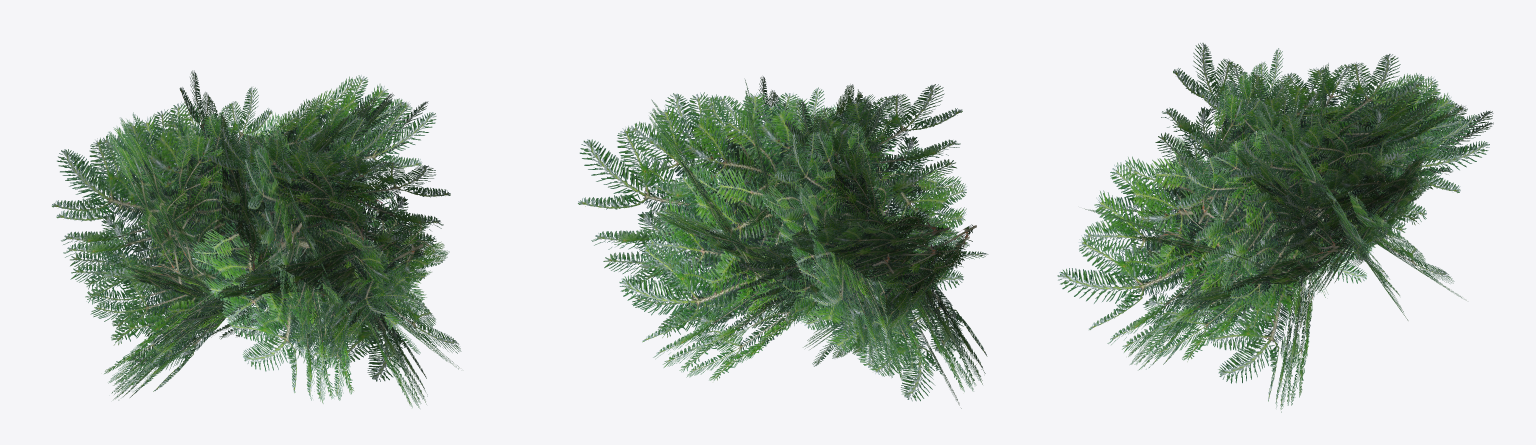
The model's file is Grass_52.fbx.
The picture shows the model from 3 angles, left to right: view 1: azimuth 30°, elevation 25°; view 2: azimuth 150°, elevation 25°; view 3: azimuth 270°, elevation 25°; orthographic projection. The views are drawn at different scales.
Parts seen in each view (by area): view 1: Grass_52; view 2: Grass_52; view 3: Grass_52.
Part boxes in pixels (x1,y1,x2,y2): Grass_52: (52, 70, 461, 408); Grass_52: (578, 76, 988, 408); Grass_52: (1057, 43, 1493, 412).
Size of the model in its own units: 3146 by 2490 by 3317.
